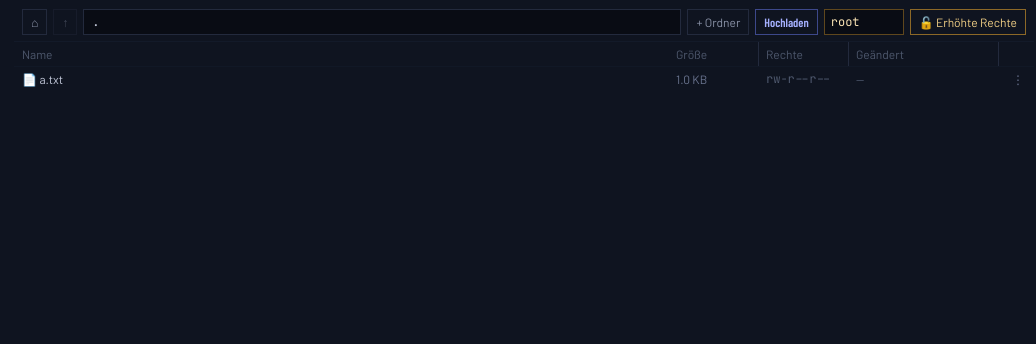
FileBrowserPanel context menu + read-only actions (Spec 0054, Teil 1+2) › right-click opens the same actions as the three-dots menu
The width and height of the screenshot is (1036, 344).
Right-click the text "📄 a.txt 1.0 KB rw-r--r-- — ⋮" at (524, 79), box [14, 66, 1034, 91]
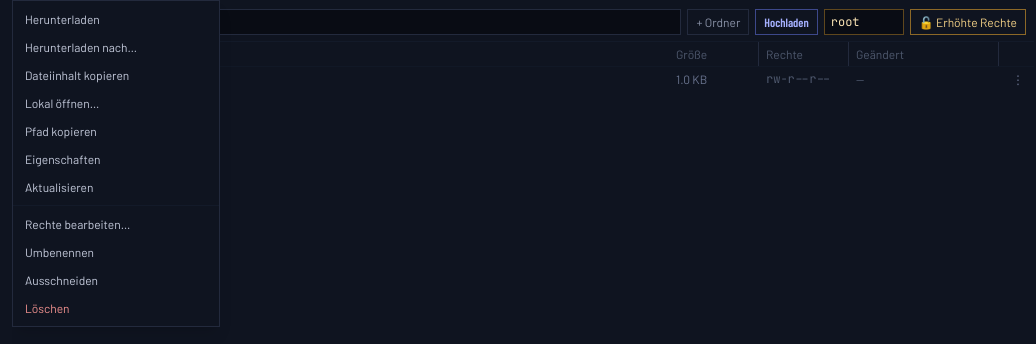
Expected: the button "Herunterladen" is shown, [13, 5, 219, 33]
Expected: the button "Herunterladen nach…" is shown, [13, 33, 219, 61]
Expected: the button "Dateiinhalt kopieren" is shown, [13, 61, 219, 89]
